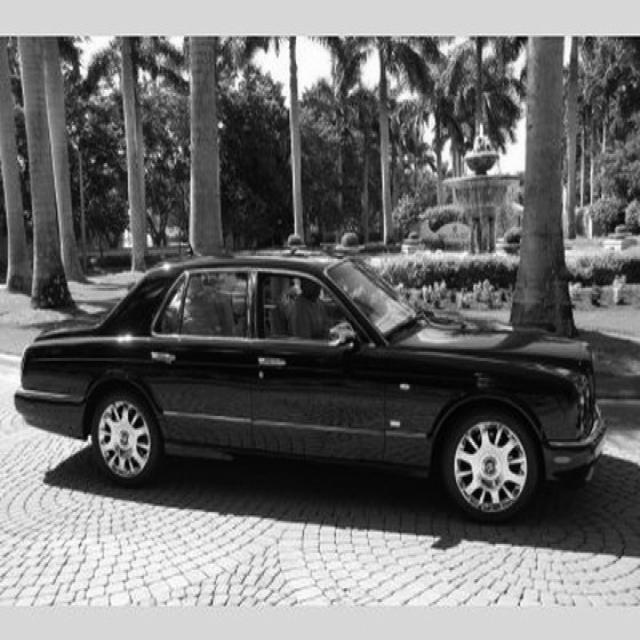car: (12, 246, 607, 524)
